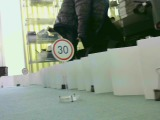speed_30: (52, 38, 74, 61)
